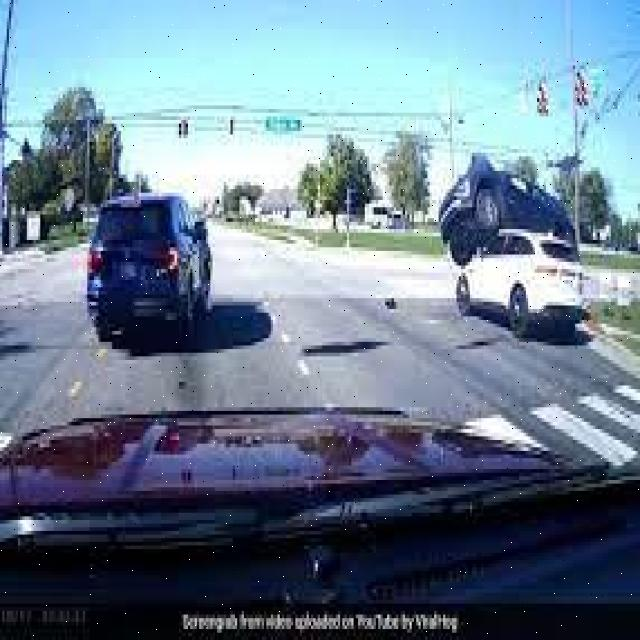severe: (438, 140, 590, 336)
